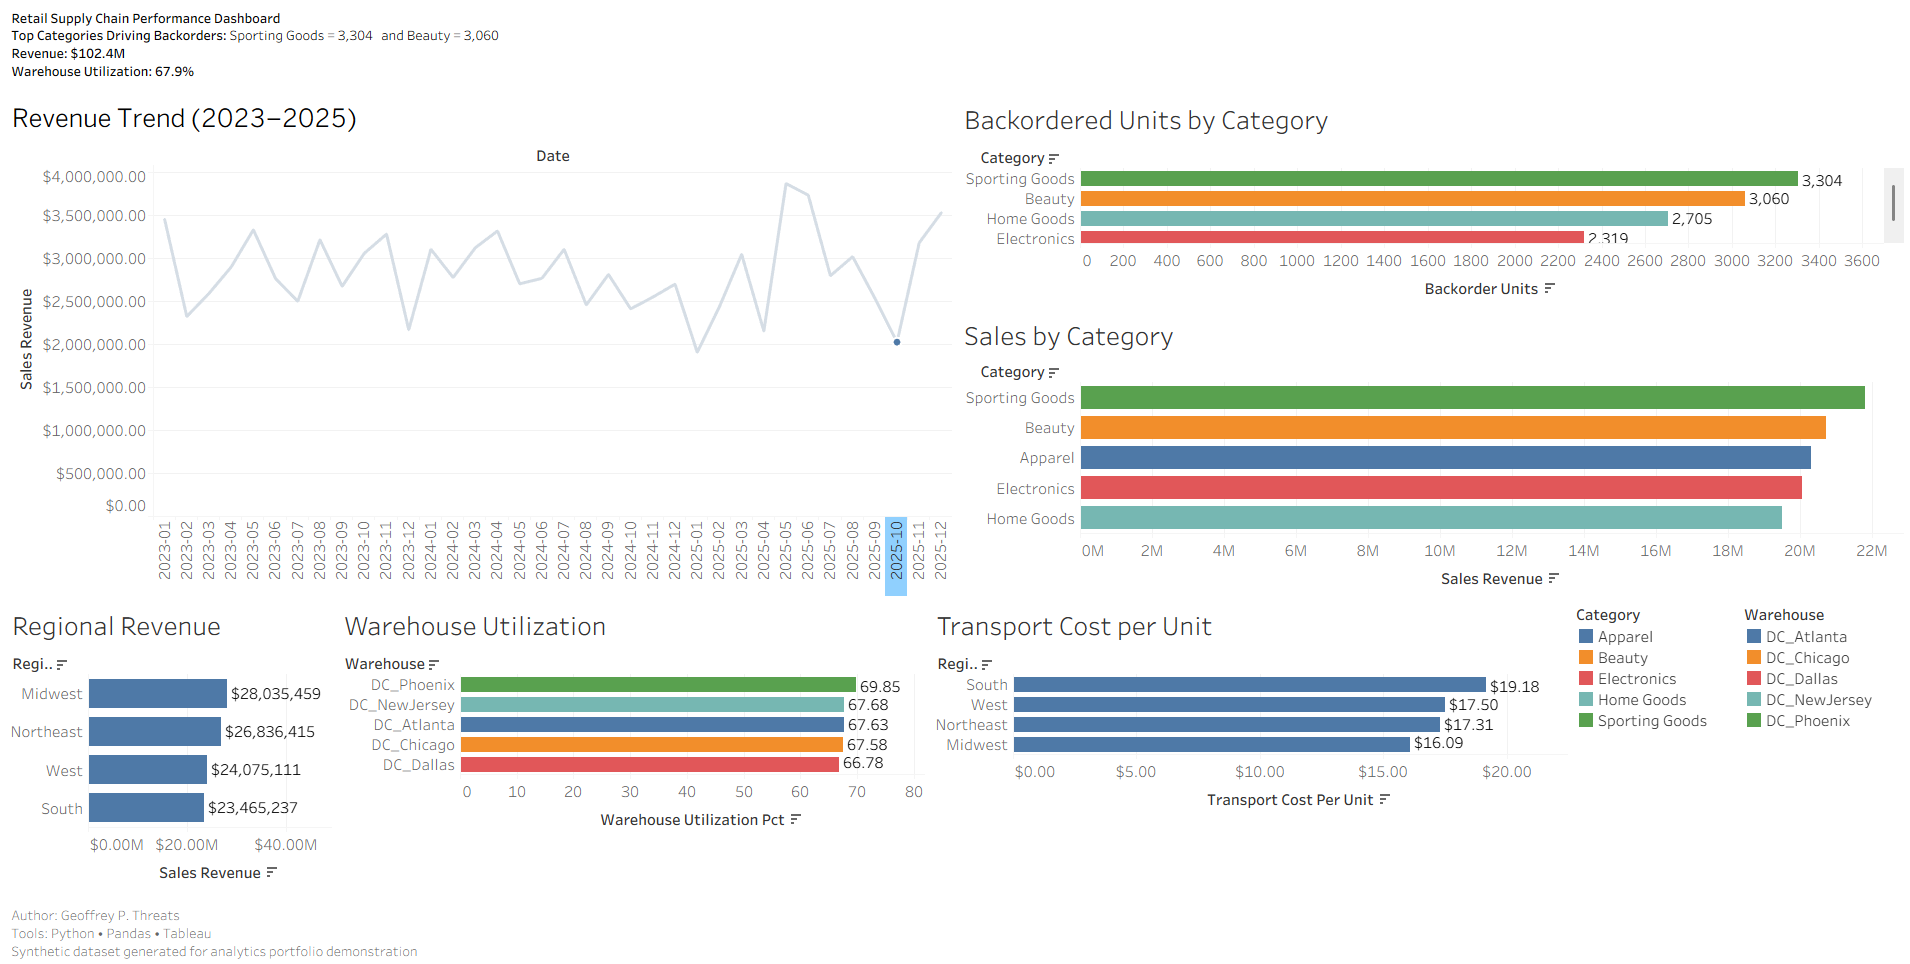

This screenshot's page, from the dashboard's own definition file:
{"tool":"tableau","page":{"name":"ProjectStatusRetail Supply Chain Dashboard","canvas":[1000,1000],"units":"permille","ordinal":2},"visuals":[{"type":"text","box":[4.7,9.8,990.5,98.9]},{"type":"worksheet","title":"Monthly Revenue Trend","mark":"Line","rows":["Sales_Revenue"],"cols":["Date"],"box":[4.7,108.7,495.3,507.9]},{"type":"worksheet","title":"Backordered Units by Category","mark":"Bar","rows":["Category"],"cols":["Backorder_Units"],"box":[500,108.7,495.3,254]},{"type":"worksheet","title":"Sales by Category","mark":"Bar","rows":["Category"],"cols":["Sales_Revenue"],"box":[500,362.6,495.3,254]},{"type":"worksheet","title":"Regional Revenue","mark":"Bar","rows":["Region"],"cols":["Sales_Revenue"],"box":[4.7,616.6,196.9,295.5]},{"type":"worksheet","title":"Warehouse Utilization","mark":"Bar","rows":["Warehouse"],"cols":["Warehouse_Utilization_Pct"],"box":[201.7,616.6,284.2,295.5]},{"type":"worksheet","title":"Transport Cost per Unit","mark":"Bar","rows":["Region"],"cols":["Transport_Cost_Per_Unit"],"box":[485.8,616.6,310.2,295.5]},{"type":"legend","title":"Sales by Category","param":"[federated.11zqs8509tio7016byita0zu22g5].[none:Category:nk]","box":[796,616.6,99.6,295.5]},{"type":"legend","title":"Warehouse Utilization","param":"[federated.0l8cbqv1tilk4a1fi81r80oxinol].[none:Warehouse:nk]","box":[895.6,616.6,99.6,295.5]},{"type":"text","box":[4.7,912.1,990.5,78.1]}]}

Visuals, with their boxes on the dashboard's canvas, which has no fixed pixel size, in thousandths of its width and height (x1, y1, x2, y2). These are canvas units, not pixel positions in the 1910x964 screenshot, which may show the page scaled, cropped or inside an application window:
text: x1=5 y1=10 x2=995 y2=109
"Monthly Revenue Trend" worksheet (Line marks): x1=5 y1=109 x2=500 y2=617
"Backordered Units by Category" worksheet (Bar marks): x1=500 y1=109 x2=995 y2=363
"Sales by Category" worksheet (Bar marks): x1=500 y1=363 x2=995 y2=617
"Regional Revenue" worksheet (Bar marks): x1=5 y1=617 x2=202 y2=912
"Warehouse Utilization" worksheet (Bar marks): x1=202 y1=617 x2=486 y2=912
"Transport Cost per Unit" worksheet (Bar marks): x1=486 y1=617 x2=796 y2=912
"Sales by Category" legend: x1=796 y1=617 x2=896 y2=912
"Warehouse Utilization" legend: x1=896 y1=617 x2=995 y2=912
text: x1=5 y1=912 x2=995 y2=990
